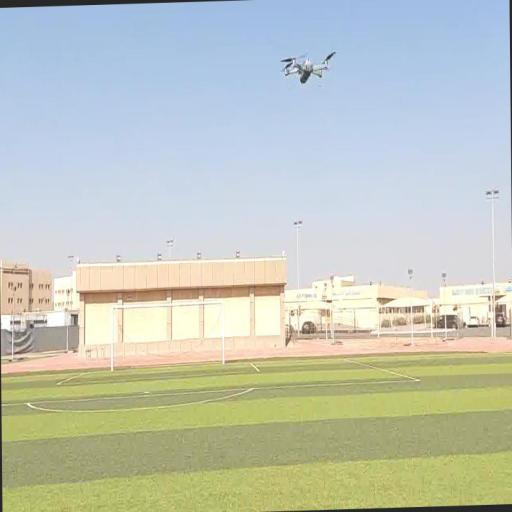drone: (279, 50, 337, 84)
